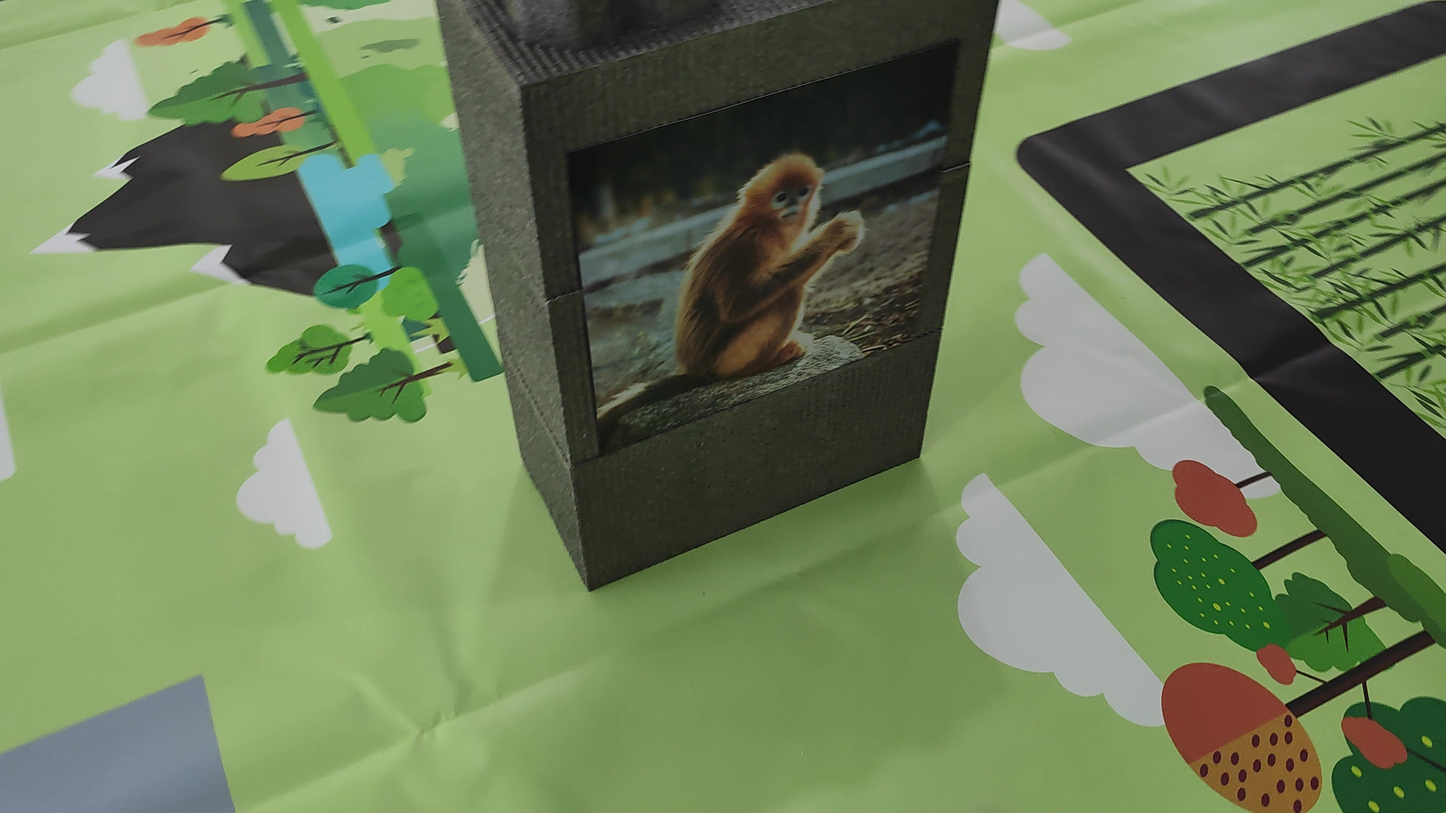monkey: (595, 125, 930, 394)
